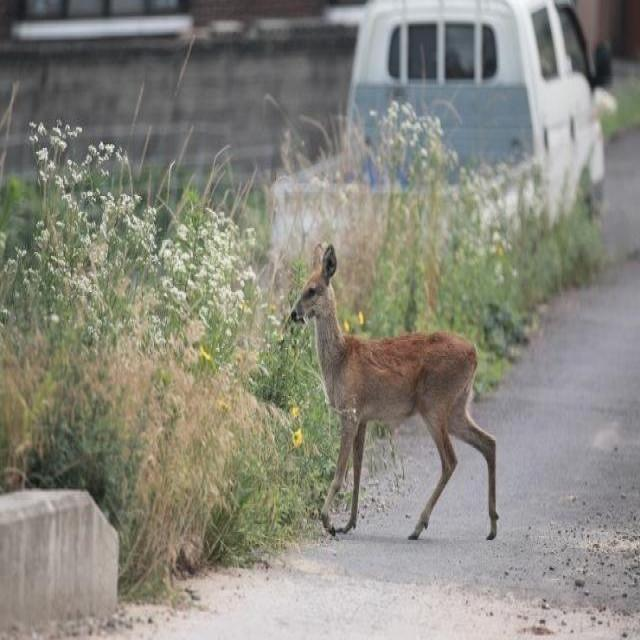deer: (280, 236, 521, 595)
